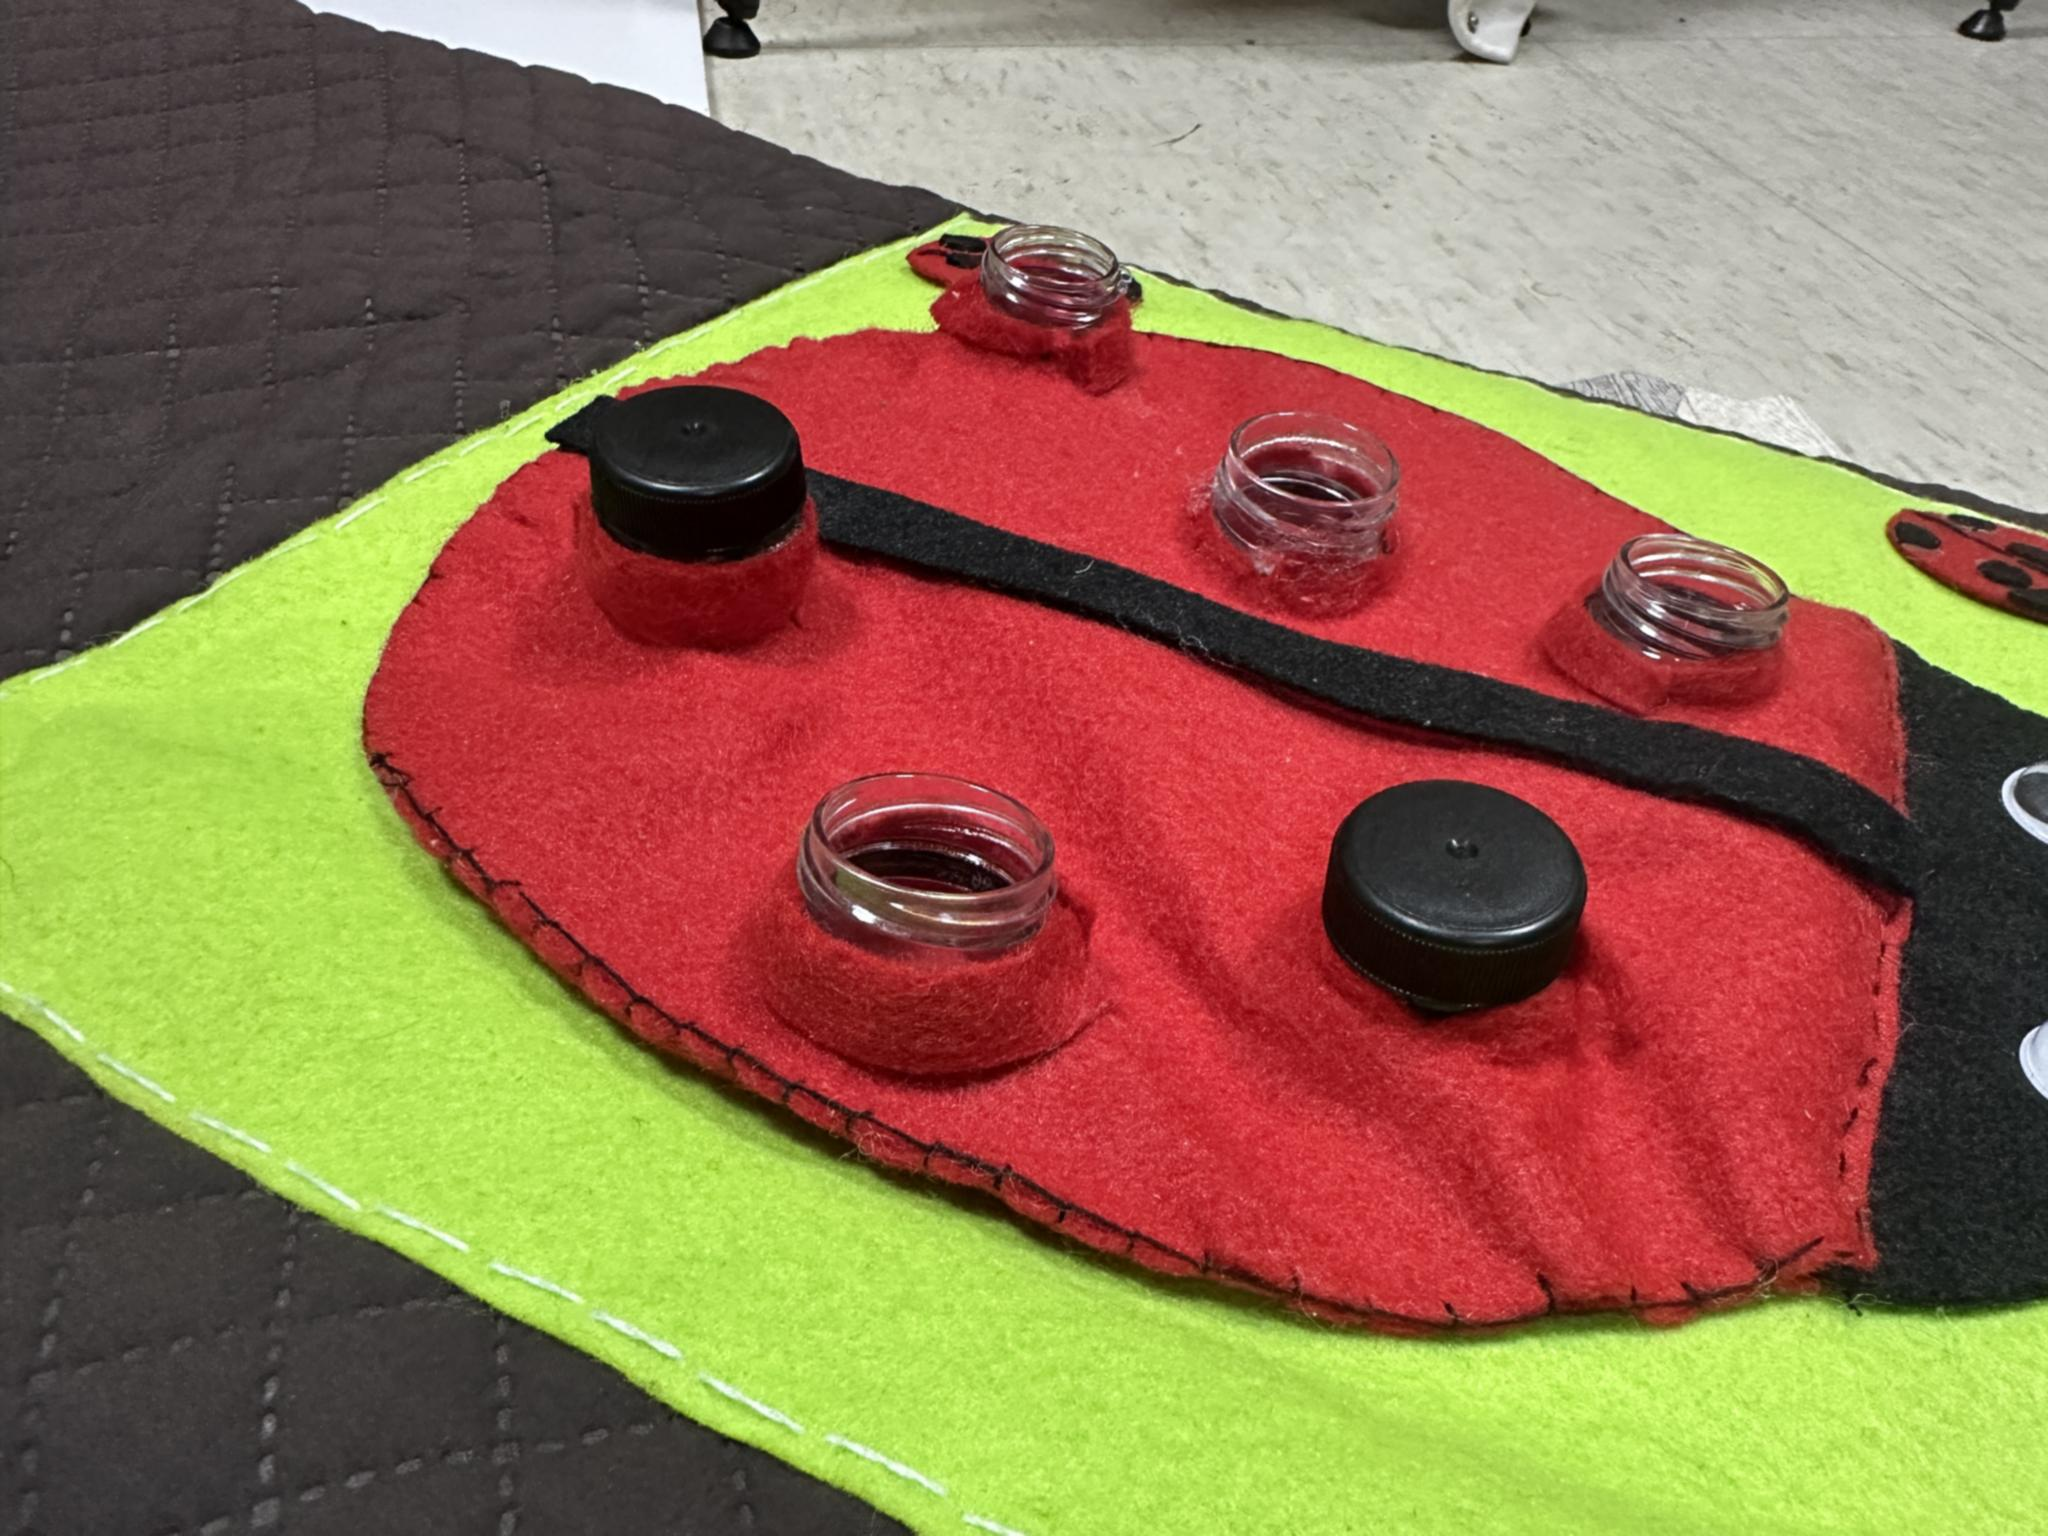cap_ok: (535, 357, 842, 681), (1277, 768, 1634, 1034)
